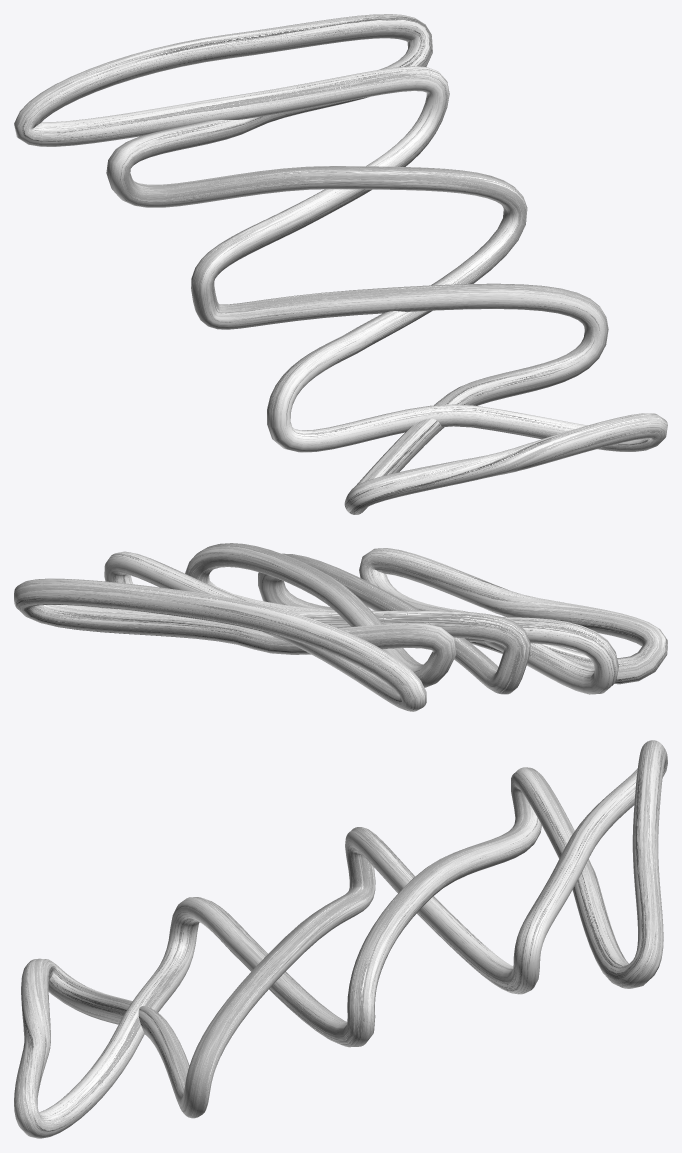
The picture shows the model from 3 angles, top to bottom: view 1: azimuth 30°, elevation 25°; view 2: azimuth 150°, elevation 25°; view 3: azimuth 270°, elevation 25°; orthographic projection. The views are drawn at different scales.
Visible parts, largest first — view 1: BezierCurve; view 2: BezierCurve; view 3: BezierCurve.
Part boxes in pixels (x1=…): BezierCurve: x1=14, y1=14, x2=667, y2=514; BezierCurve: x1=14, y1=543, x2=667, y2=711; BezierCurve: x1=14, y1=740, x2=667, y2=1138.
Bounding box in the file's own units: 0.064 × 0.0372 × 0.0831.
Materials: 1 (1 with a texture image).
